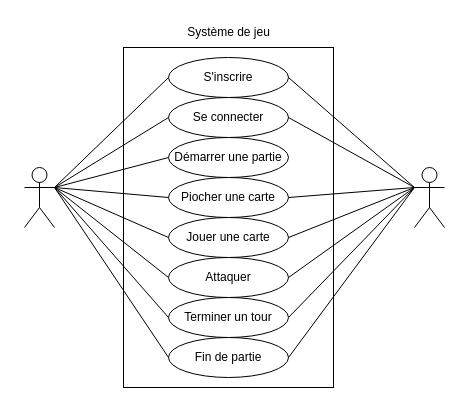
This 468x405 diagram has some shape labels left out. The shapes that lost their labels are listed below. From the top down, each one's centre as x and y in pixels, then its label:
At point (39, 197): "Player 1".
At point (429, 197): "Player 2".
